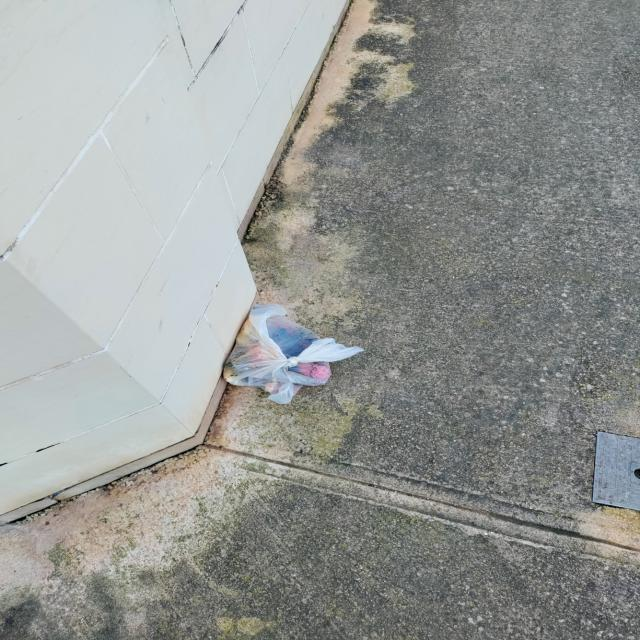Organic Waste: (222, 302, 364, 404)
